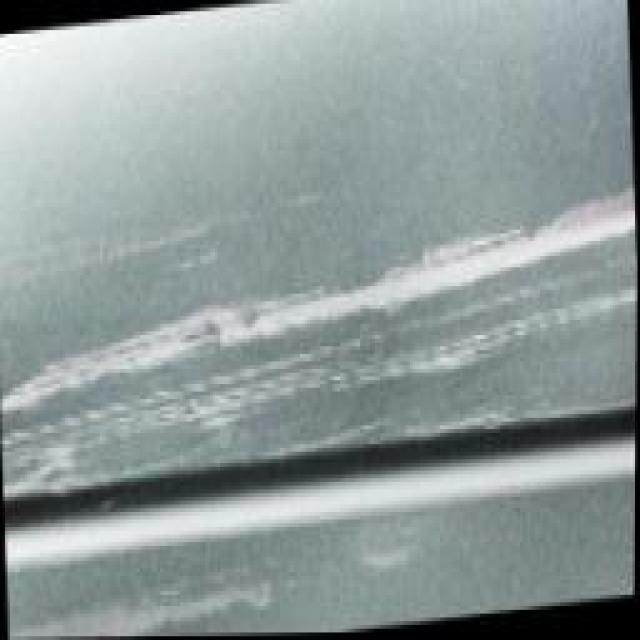Door: (0, 136, 639, 640)
